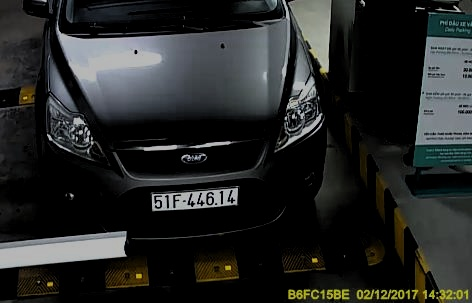plate: (149, 187, 239, 210)
